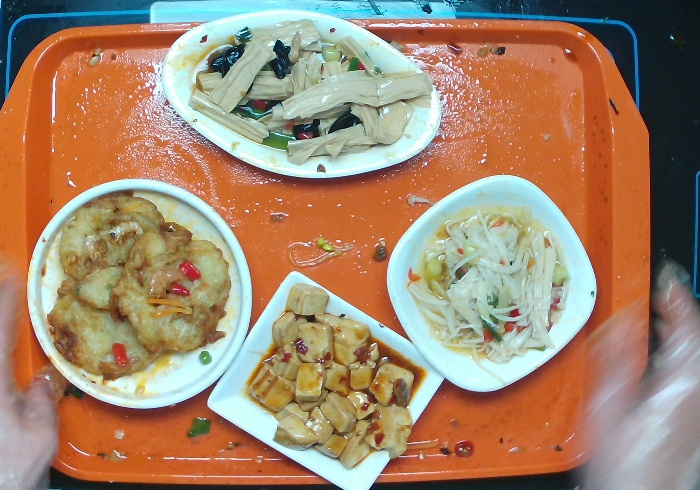HZYJPL-Si_Fang_Die: (206, 269, 449, 490)
HZYJPL-Si_Fang_Yuan_Die: (384, 172, 600, 395)
HZYJPL-Xiao_Yu_Die: (160, 7, 445, 180)
HZYJPL-Xiao_Yuan_Die: (24, 176, 256, 413)
